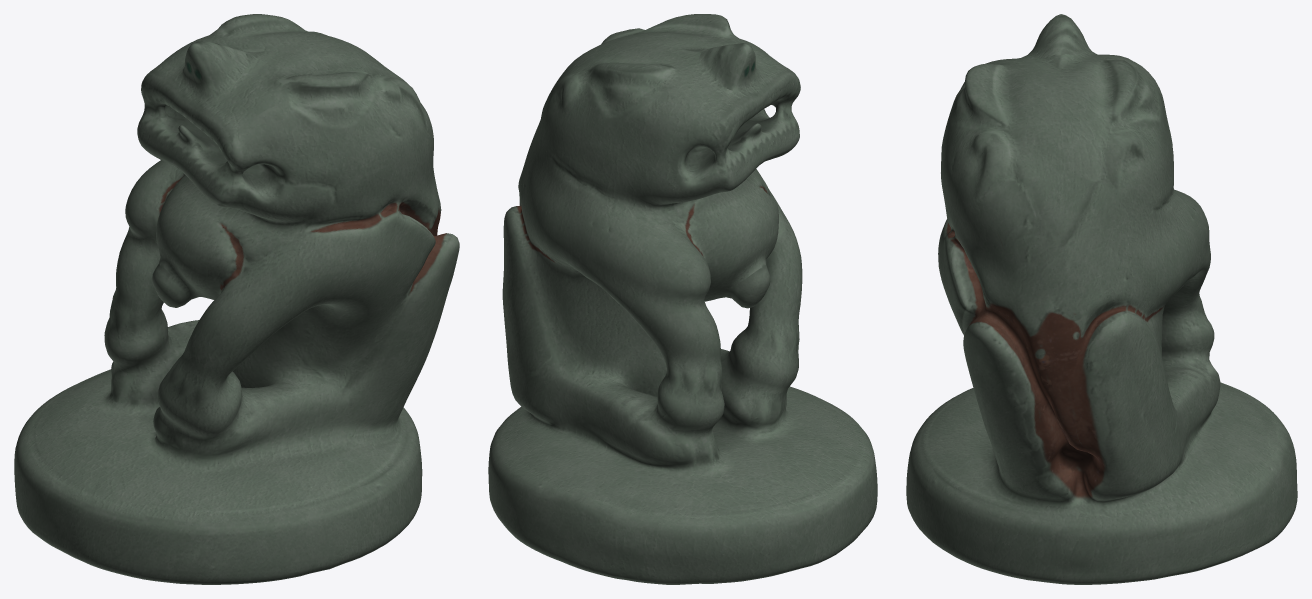
File: SM_LionIncenseBurner_top.fbx
The picture shows the model from 3 angles, left to right: view 1: azimuth 30°, elevation 25°; view 2: azimuth 150°, elevation 25°; view 3: azimuth 270°, elevation 25°; orthographic projection. The views are drawn at different scales.
Visible parts, largest first — view 1: SM_LionIncenseBurner_top; view 2: SM_LionIncenseBurner_top; view 3: SM_LionIncenseBurner_top.
Part boxes in pixels (box(x1,y1,x2,y2)): SM_LionIncenseBurner_top: box(14, 14, 459, 584); SM_LionIncenseBurner_top: box(488, 14, 877, 584); SM_LionIncenseBurner_top: box(906, 14, 1297, 584).
Bounding box in the file's own units: 22.16 × 21.04 × 28.11.
Materials: 1 (1 with a texture image).
